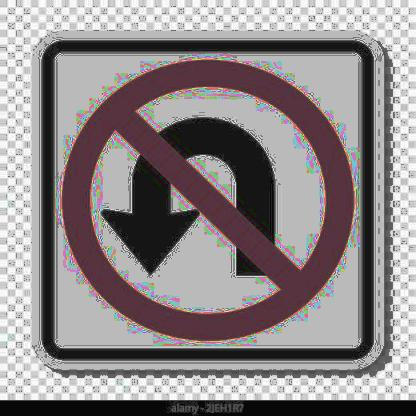No U-turn: (59, 53, 356, 344)
